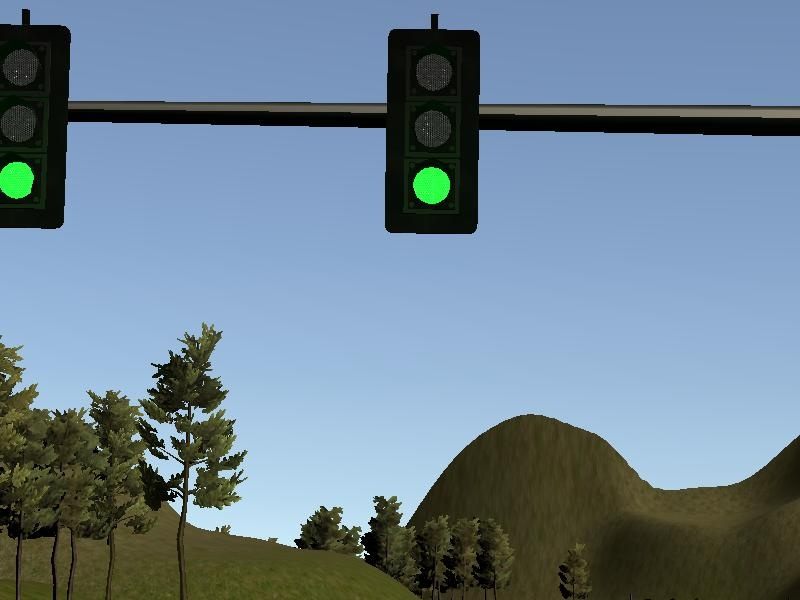GREEN: (383, 26, 481, 238), (1, 22, 73, 233)
